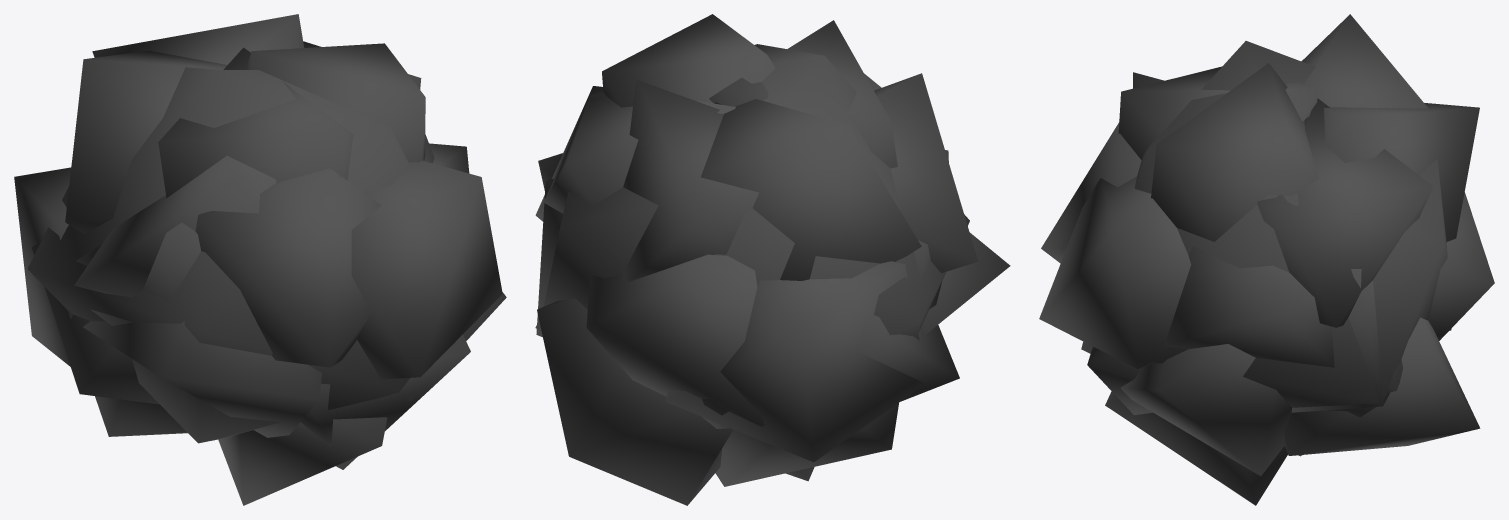
File: explosionSmoke.obj
3 renders of one model, left to right at view 1: azimuth 30°, elevation 25°; view 2: azimuth 150°, elevation 25°; view 3: azimuth 270°, elevation 25°, orthographic. The views are drawn at different scales.
Parts seen in each view (by area): view 1: 球.004; view 2: 球.004; view 3: 球.004.
Part boxes in pixels (bbox=[...]): 球.004: bbox=[14, 14, 506, 505]; 球.004: bbox=[535, 14, 1010, 505]; 球.004: bbox=[1039, 14, 1494, 505].
Bounding box in the file's own units: 1 × 1 × 1.
1 material, 1 textured.
